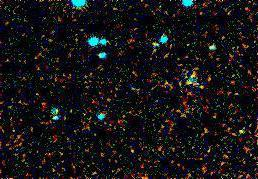star: (116, 142, 146, 172)
